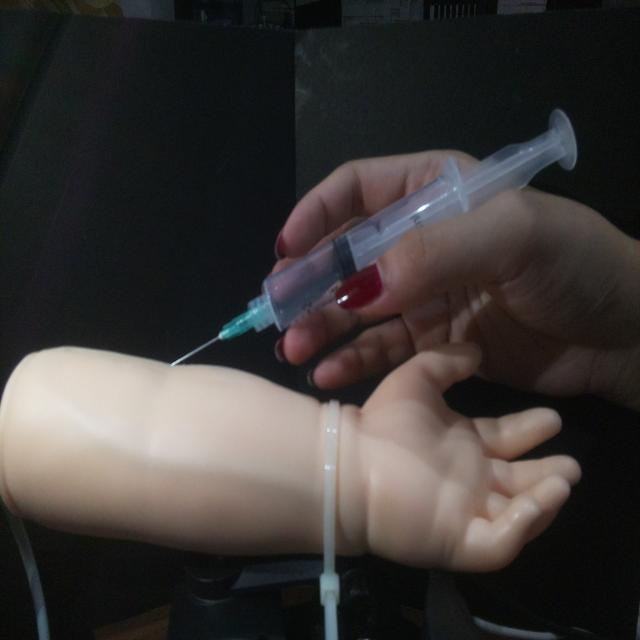23deg: (167, 103, 580, 369)
